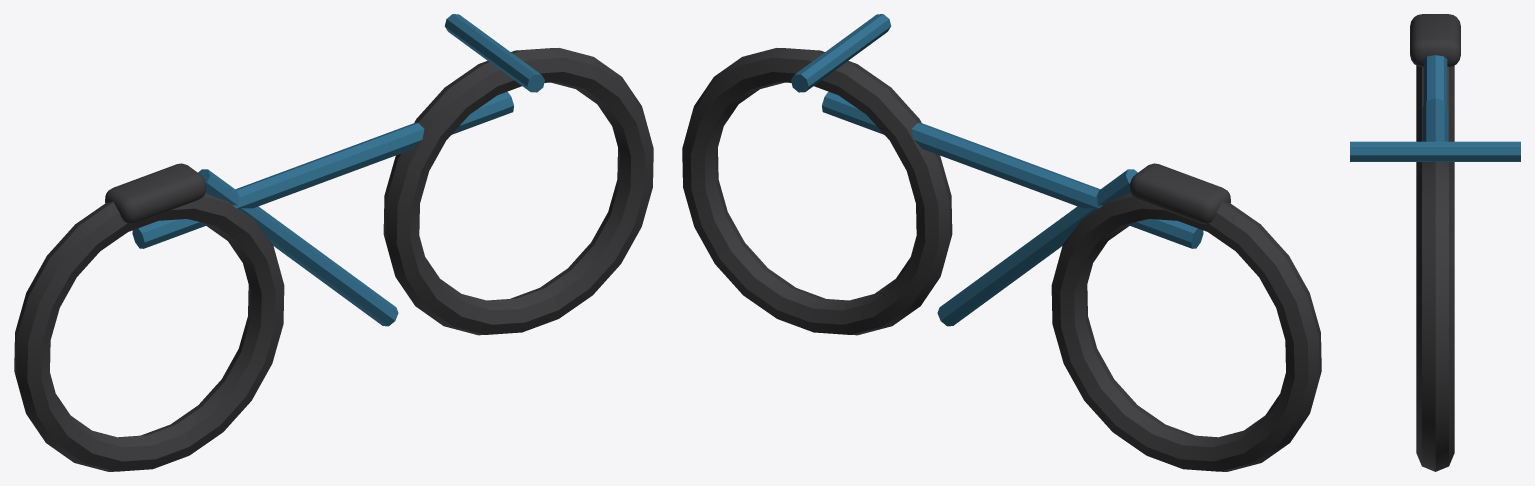
The model's file is bicicleta.fbx.
3 renders of one model, left to right at view 1: azimuth 30°, elevation 25°; view 2: azimuth 150°, elevation 25°; view 3: azimuth 270°, elevation 25°, orthographic. The views are drawn at different scales.
Parts seen in each view (by area): view 1: tyre_02, tyre, bikeFrame, bikeFrame_02, seat, bikeFrame_03; view 2: tyre_02, tyre, bikeFrame, bikeFrame_02, seat, bikeFrame_03; view 3: tyre_02, bikeFrame_03, seat, tyre, bikeFrame_02, bikeFrame.
Boxes of the visible parts, left/top/right/bottom form: tyre_02: left=383, top=48, right=653, bottom=335; tyre: left=14, top=193, right=284, bottom=471; bikeFrame: left=132, top=91, right=513, bottom=248; bikeFrame_02: left=198, top=169, right=398, bottom=326; seat: left=105, top=163, right=206, bottom=224; bikeFrame_03: left=444, top=14, right=544, bottom=92; tyre_02: left=682, top=48, right=952, bottom=335; tyre: left=1051, top=193, right=1321, bottom=471; bikeFrame: left=822, top=91, right=1203, bottom=248; bikeFrame_02: left=937, top=169, right=1137, bottom=326; seat: left=1129, top=163, right=1230, bottom=224; bikeFrame_03: left=791, top=14, right=891, bottom=92; tyre_02: left=1416, top=161, right=1454, bottom=471; bikeFrame_03: left=1350, top=141, right=1520, bottom=161; seat: left=1410, top=14, right=1460, bottom=66; tyre: left=1416, top=65, right=1454, bottom=171; bikeFrame_02: left=1423, top=55, right=1447, bottom=105; bikeFrame: left=1422, top=98, right=1448, bottom=141.
Size of the model in its own units: 1.78 by 0.909 by 0.4.
